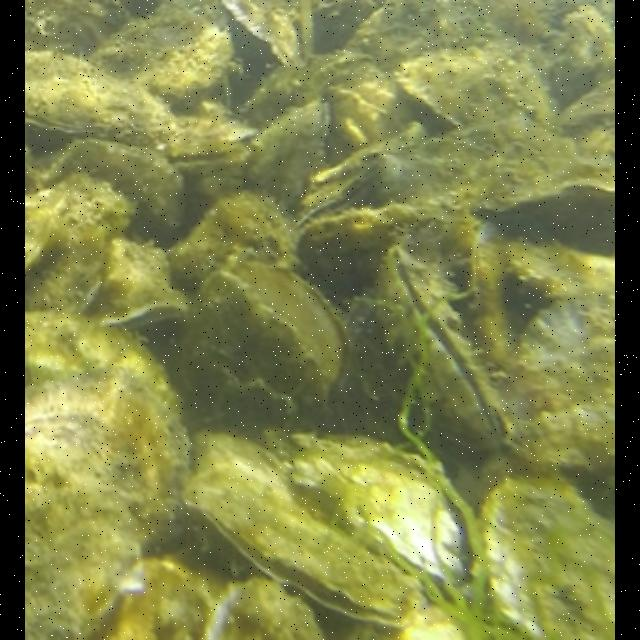Oyster-Closed: (25, 315, 191, 638), (270, 433, 463, 583), (377, 118, 614, 210), (484, 480, 614, 638), (25, 173, 135, 318), (45, 139, 185, 247), (397, 48, 559, 138), (25, 52, 178, 143), (168, 193, 296, 298), (295, 204, 415, 313), (89, 7, 231, 99), (520, 291, 614, 414), (248, 54, 399, 123), (246, 104, 333, 221), (102, 557, 218, 638), (344, 0, 452, 75), (506, 405, 614, 473), (204, 577, 323, 638), (25, 0, 133, 66), (471, 223, 517, 368), (507, 240, 614, 299), (223, 0, 314, 67), (92, 240, 169, 317), (132, 117, 257, 150), (25, 185, 65, 282), (403, 204, 475, 257), (563, 78, 614, 129)
Oyster-Open: (187, 435, 425, 624), (175, 262, 351, 434), (376, 252, 513, 452), (299, 164, 379, 229), (140, 140, 247, 180), (101, 288, 190, 336)
